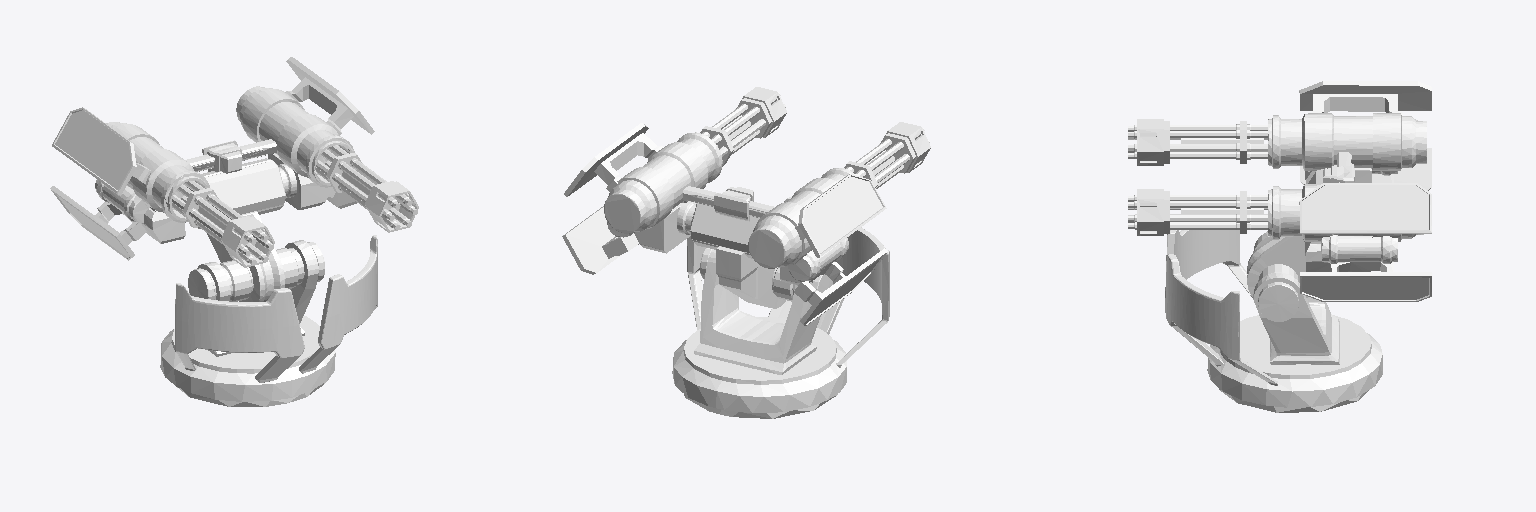
Rendered from BigEnemy.obj.
3 renders of one model, left to right at view 1: azimuth 30°, elevation 25°; view 2: azimuth 150°, elevation 25°; view 3: azimuth 270°, elevation 25°, orthographic.
Parts seen in each view (by area): view 1: canon_lvl_4_var_1, Canon_lvl_4_var_1, gunpoint_R, gunpoint_L; view 2: canon_lvl_4_var_1, Canon_lvl_4_var_1, gunpoint_L, gunpoint_R; view 3: canon_lvl_4_var_1, Canon_lvl_4_var_1, gunpoint_L, gunpoint_R.
Part boxes in pixels (left/top/right/bottom): canon_lvl_4_var_1: left=50, top=57, right=374, bottom=301; Canon_lvl_4_var_1: left=160, top=235, right=377, bottom=406; gunpoint_R: left=172, top=181, right=274, bottom=267; gunpoint_L: left=316, top=145, right=418, bottom=232; canon_lvl_4_var_1: left=562, top=123, right=887, bottom=325; Canon_lvl_4_var_1: left=672, top=197, right=889, bottom=418; gunpoint_L: left=700, top=87, right=786, bottom=166; gunpoint_R: left=844, top=122, right=930, bottom=188; canon_lvl_4_var_1: left=1247, top=81, right=1431, bottom=301; Canon_lvl_4_var_1: left=1165, top=230, right=1382, bottom=412; gunpoint_L: left=1128, top=189, right=1267, bottom=235; gunpoint_R: left=1128, top=119, right=1267, bottom=165.
Size of the model in its own units: 1.27 by 1.16 by 1.29.